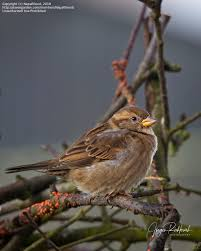hsparrow: (6, 102, 161, 202)
